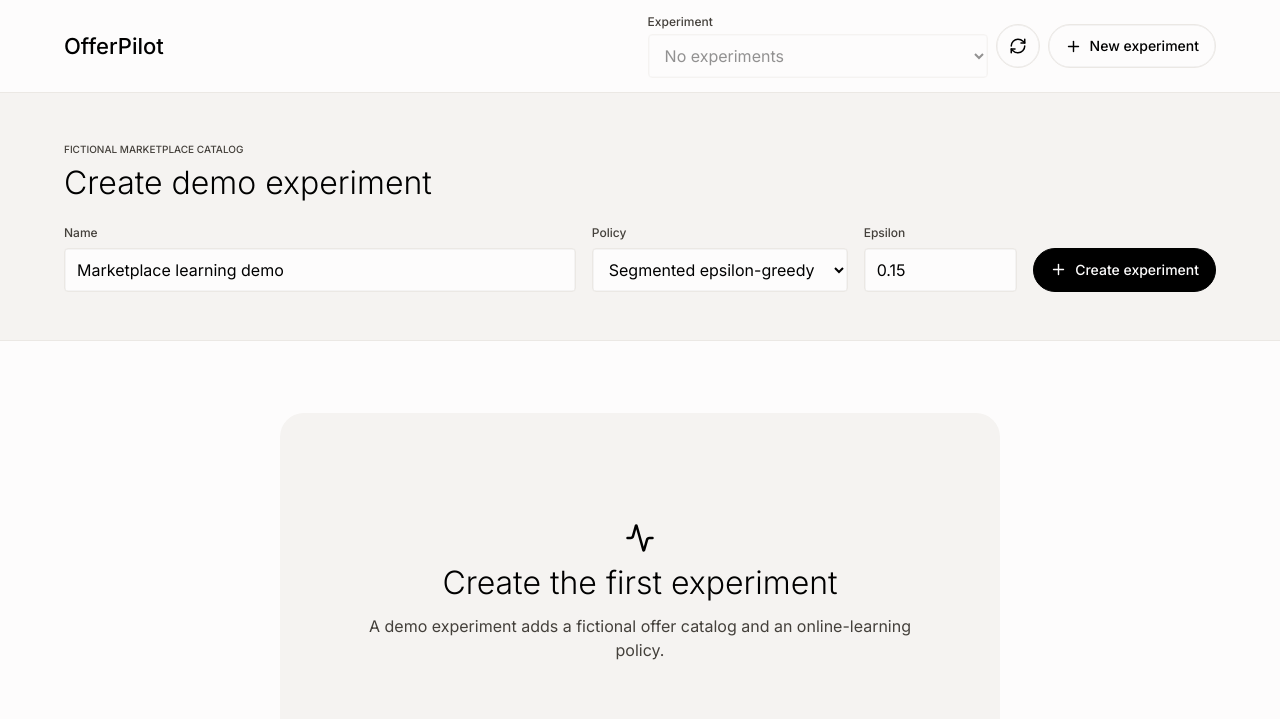
it: OfferPilot dashboard › validates and creates the first demo experiment from the keyboard
Expected: the heading "Create demo experiment" is shown, [64, 165, 432, 201]
Step 1. Clear the number field labelled "Epsilon" → (940, 270), box [864, 248, 1017, 292]
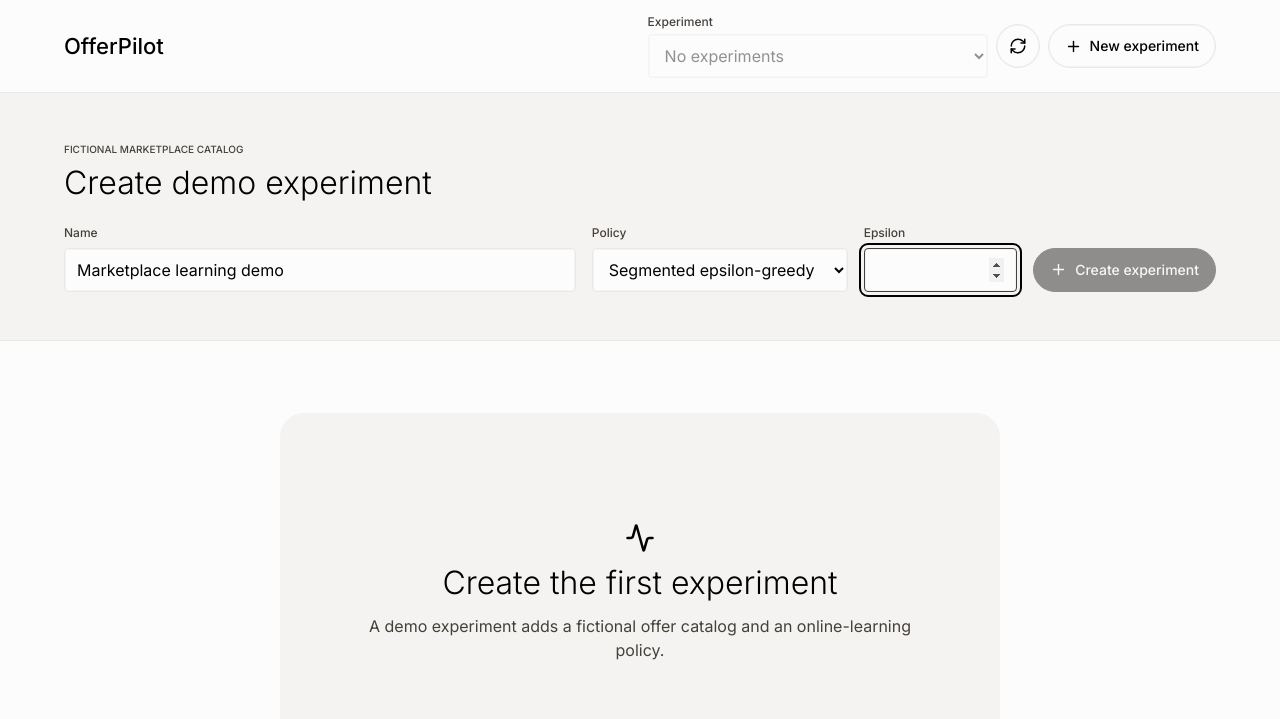
Expected: the button "Create experiment" is disabled, [1033, 248, 1216, 292]
Step 2. Type "0.2" into the number field labelled "Epsilon" → (940, 270), box [864, 248, 1017, 292]
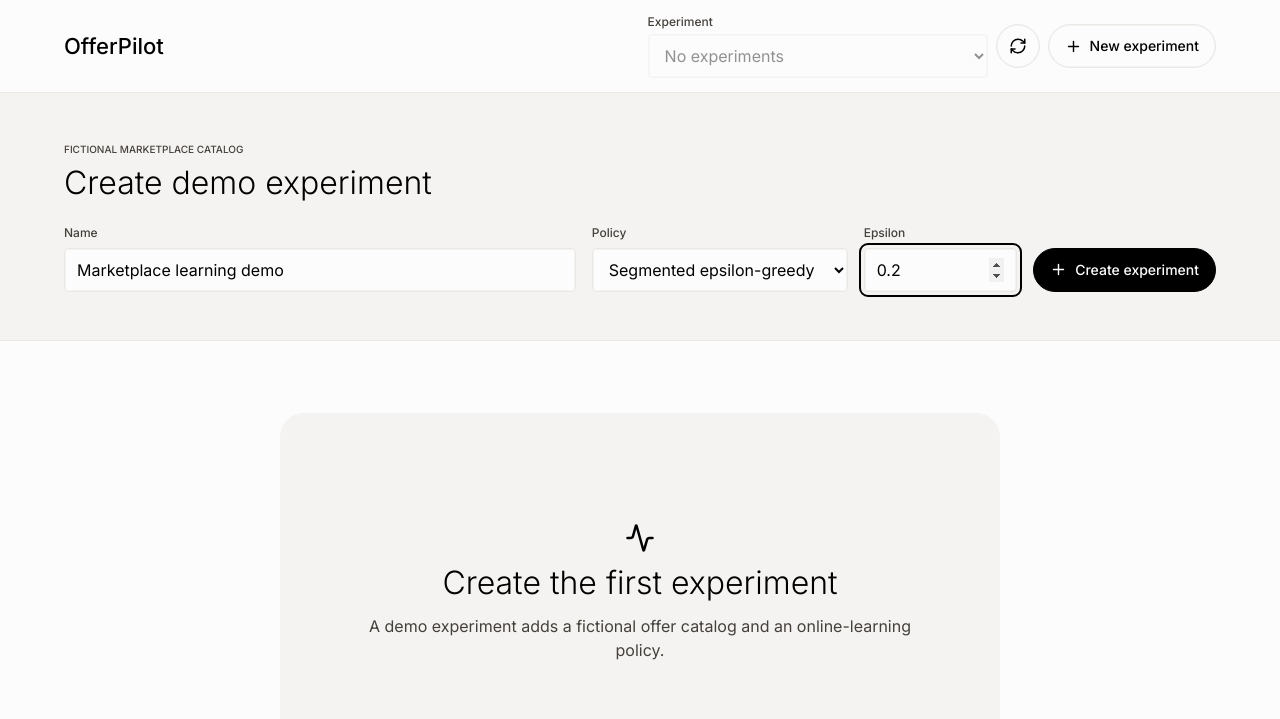
Expected: the button "Create experiment" is enabled, [1033, 248, 1216, 292]
Step 3. Click the field labelled "Name" → (320, 270), box [64, 248, 576, 292]
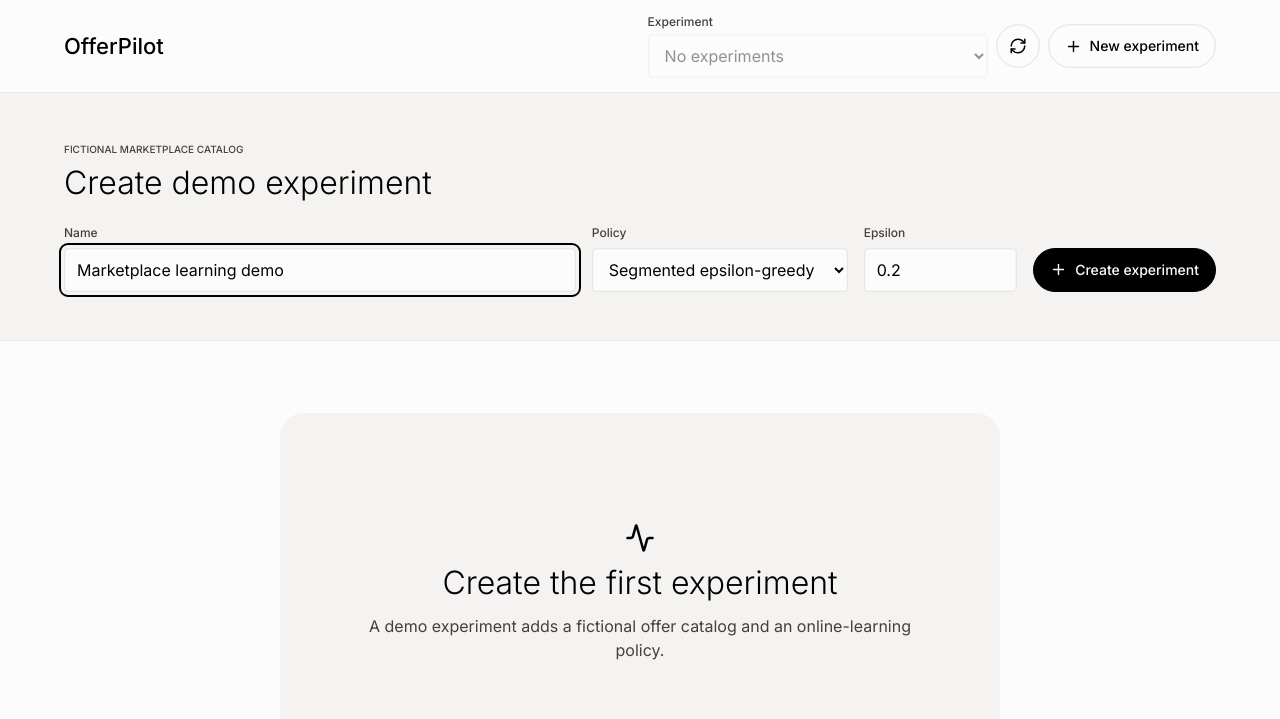
Step 4. Press Enter
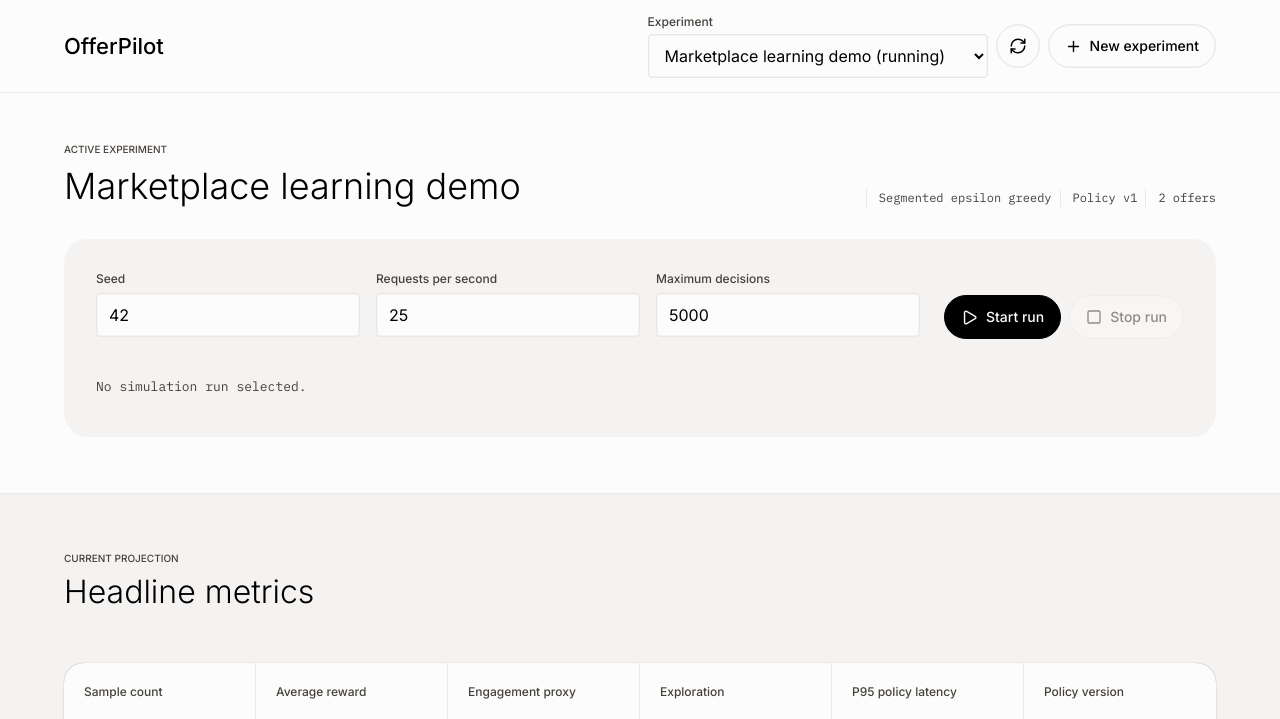
Expected: the heading "Marketplace learning demo" is shown, [64, 165, 521, 207]
